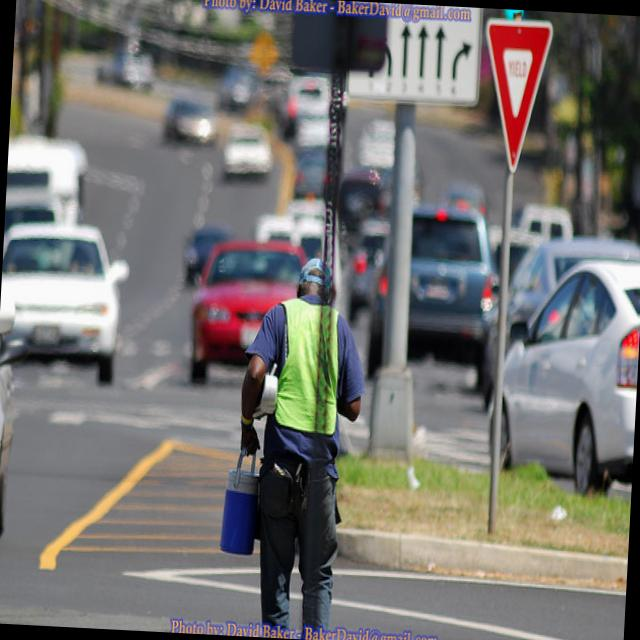Vehicle: (4, 98, 488, 260), (480, 258, 640, 502), (0, 213, 136, 389), (404, 199, 504, 400), (186, 235, 308, 388), (506, 229, 640, 350), (344, 219, 392, 382), (280, 74, 333, 140), (93, 40, 158, 92), (158, 97, 220, 151), (225, 120, 275, 182), (184, 228, 236, 282), (291, 139, 333, 204), (512, 202, 576, 236)
